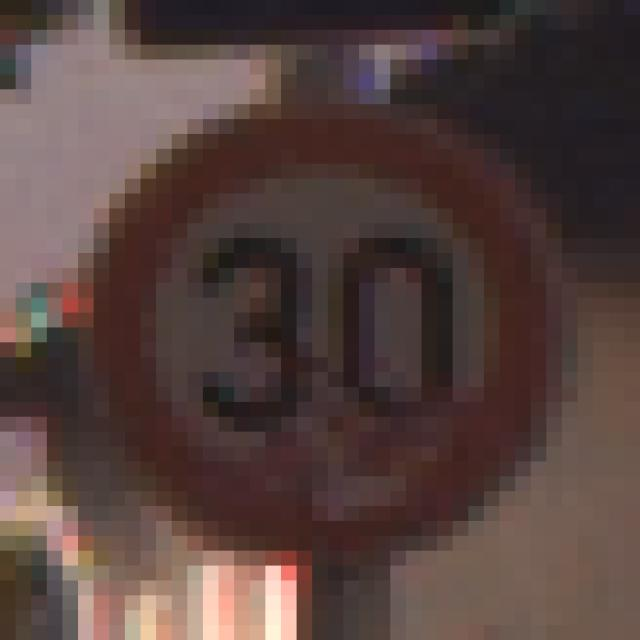Speed Limit -30-: (70, 67, 554, 558)
